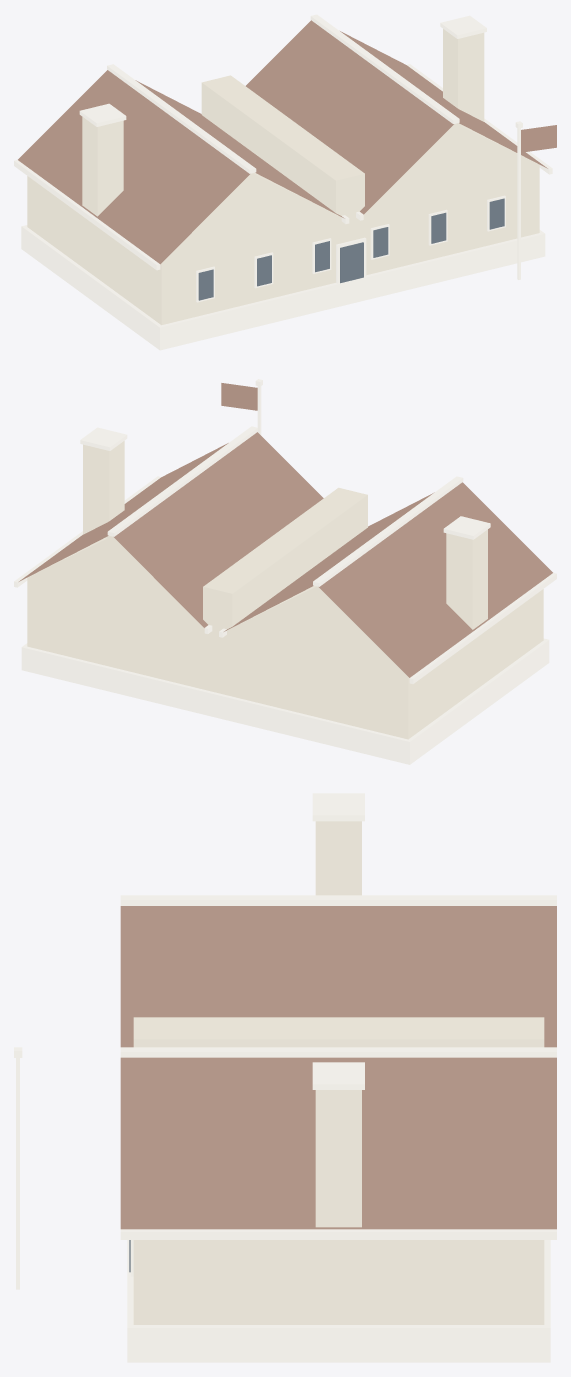
Rendered from Blender_Clubhouse_stonehouse.glb.
3 renders of one model, top to bottom at view 1: azimuth 30°, elevation 25°; view 2: azimuth 150°, elevation 25°; view 3: azimuth 270°, elevation 25°, orthographic. The views are drawn at different scales.
Parts seen in each view (by area): view 1: Blender_Clubhouse_stonehouse; view 2: Blender_Clubhouse_stonehouse; view 3: Blender_Clubhouse_stonehouse.
Boxes of the visible parts, bbox=[...] form: Blender_Clubhouse_stonehouse: bbox=[14, 14, 556, 350]; Blender_Clubhouse_stonehouse: bbox=[14, 379, 556, 764]; Blender_Clubhouse_stonehouse: bbox=[14, 793, 556, 1362].
Bounding box in the file's own units: 27.24 × 12.05 × 21.16.
